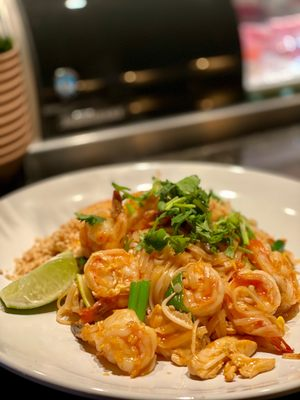pizza: (229, 0, 300, 101)
sushi: (0, 170, 300, 398)
taco: (0, 250, 79, 313)
